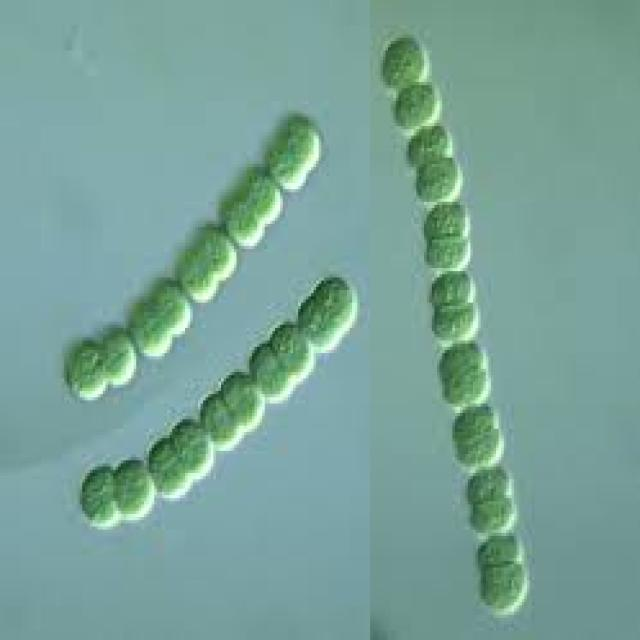Blue Green Algae: (59, 322, 108, 404), (108, 454, 157, 517), (218, 369, 268, 429), (476, 561, 530, 615), (247, 338, 293, 400), (411, 151, 465, 202), (170, 419, 218, 476), (216, 196, 267, 249), (149, 438, 193, 498), (80, 464, 120, 530), (380, 32, 424, 92), (280, 107, 324, 167), (404, 120, 460, 167), (100, 325, 139, 391), (390, 82, 440, 132), (262, 136, 306, 192), (419, 198, 475, 242), (149, 278, 193, 334), (426, 302, 486, 343), (172, 249, 219, 300), (447, 432, 509, 470), (128, 300, 170, 356), (196, 221, 237, 277), (270, 322, 311, 378), (424, 265, 478, 306), (244, 173, 285, 224), (198, 394, 239, 445), (450, 397, 501, 435), (460, 470, 517, 504), (432, 341, 488, 375), (421, 233, 473, 268), (468, 498, 519, 533), (439, 369, 491, 403), (473, 533, 524, 564)
